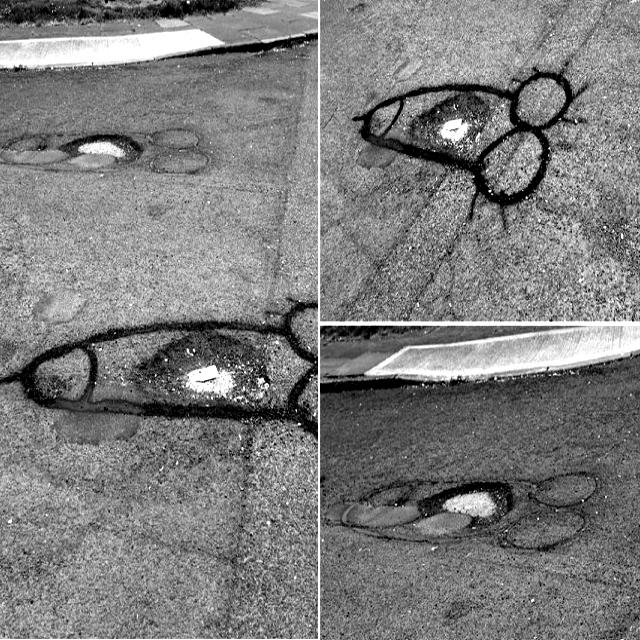pathole: (341, 478, 544, 554), (134, 332, 269, 409), (375, 86, 498, 165), (26, 131, 155, 172), (439, 118, 468, 142), (189, 364, 219, 384)
